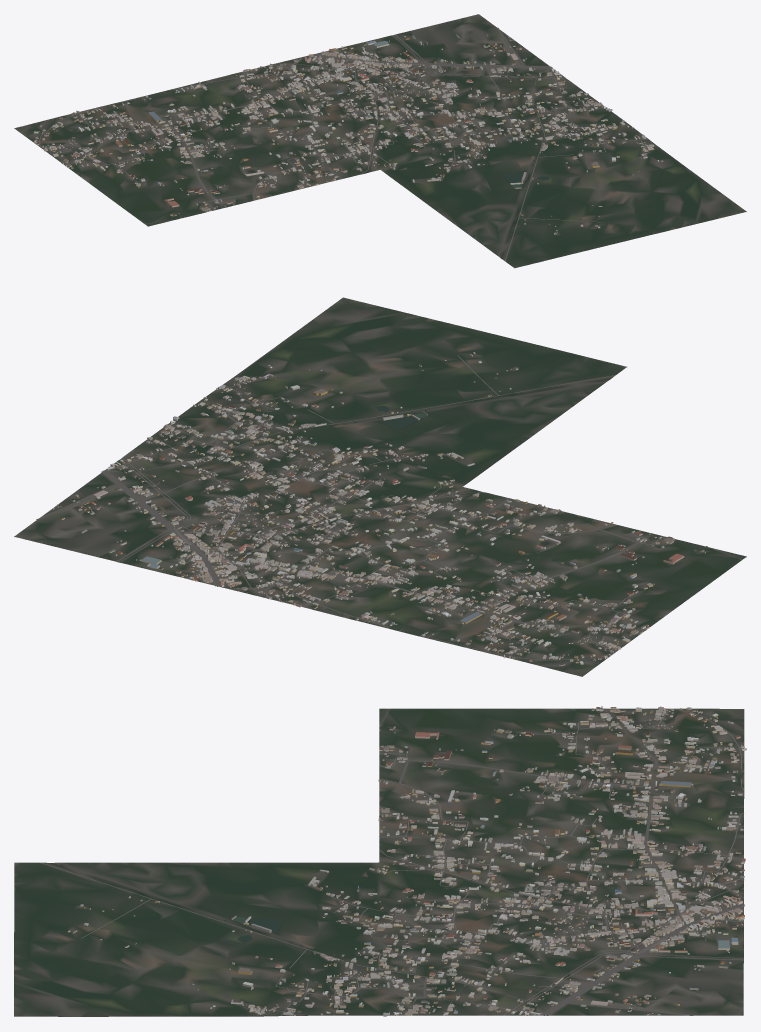
The picture shows the model from 3 angles, top to bottom: view 1: azimuth 30°, elevation 25°; view 2: azimuth 150°, elevation 25°; view 3: azimuth 270°, elevation 25°; orthographic projection. The views are drawn at different scales.
Visible parts, largest first — view 1: ground, buildings, roads, water; view 2: ground, buildings, roads, water; view 3: ground, buildings, roads, water.
Part boxes in pixels (left/top/right/bottom): ground: left=14, top=14, right=746, bottom=268; buildings: left=33, top=34, right=663, bottom=234; roads: left=39, top=27, right=649, bottom=261; water: left=215, top=66, right=564, bottom=240; ground: left=14, top=297, right=746, bottom=676; buildings: left=52, top=352, right=707, bottom=666; roads: left=36, top=355, right=742, bottom=660; water: left=121, top=380, right=652, bottom=561; ground: left=14, top=708, right=744, bottom=1016; buildings: left=67, top=706, right=746, bottom=1016; roads: left=40, top=708, right=744, bottom=1015; water: left=61, top=756, right=665, bottom=1015.
Bounding box in the file's own units: 2813 × 23.01 × 2813.
